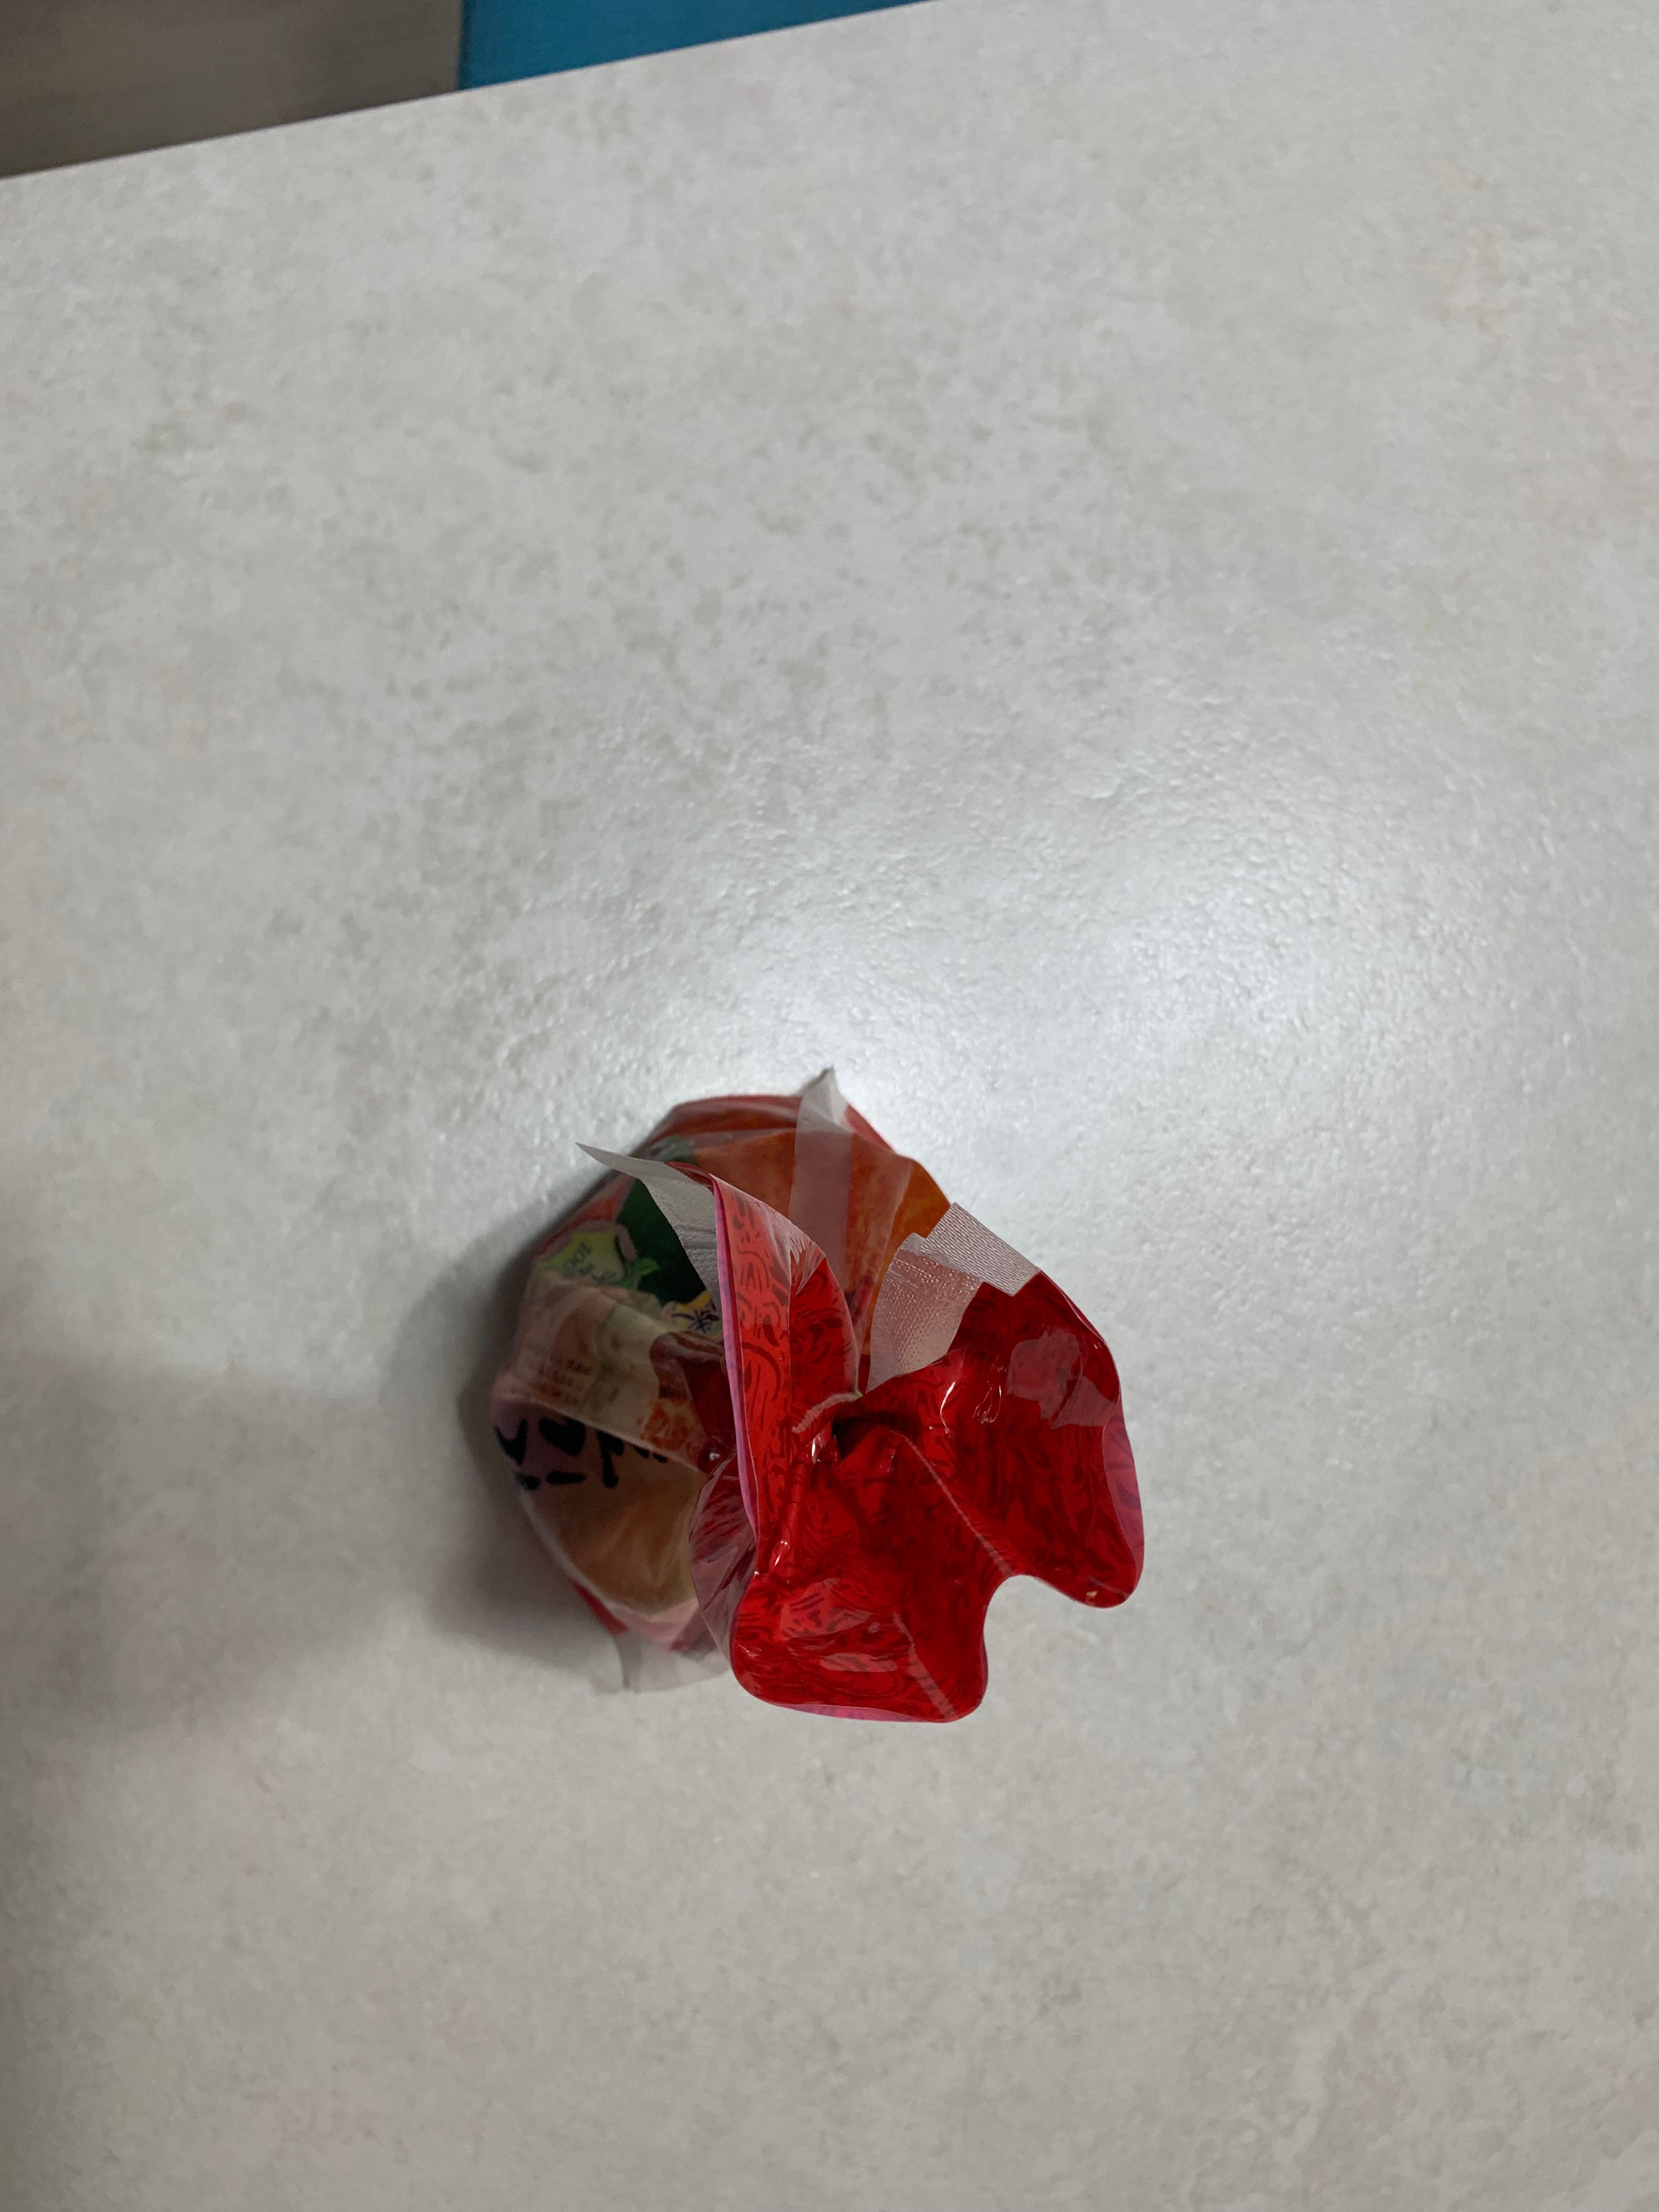kimchi: (471, 1068, 1145, 1726)
